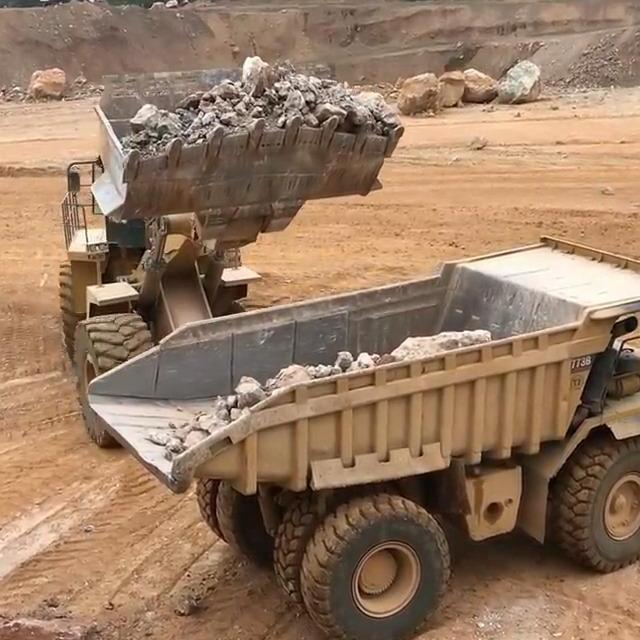Excavator: (39, 0, 93, 6)
dump truck: (79, 229, 640, 640)
wheel loader: (51, 50, 408, 457)
